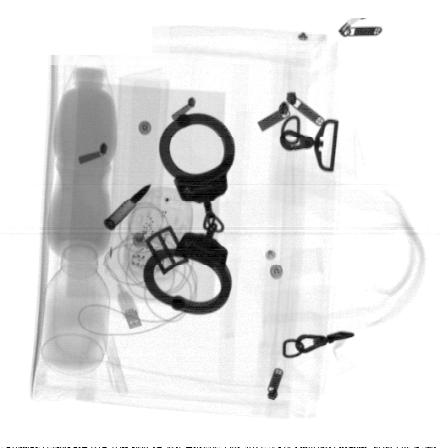Bullet: (106, 183, 151, 229)
HandCuffs: (141, 112, 238, 317)
